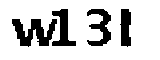1: (52, 8, 78, 48)
3: (84, 6, 113, 48)
l: (119, 6, 144, 48)
w: (9, 17, 55, 50)
